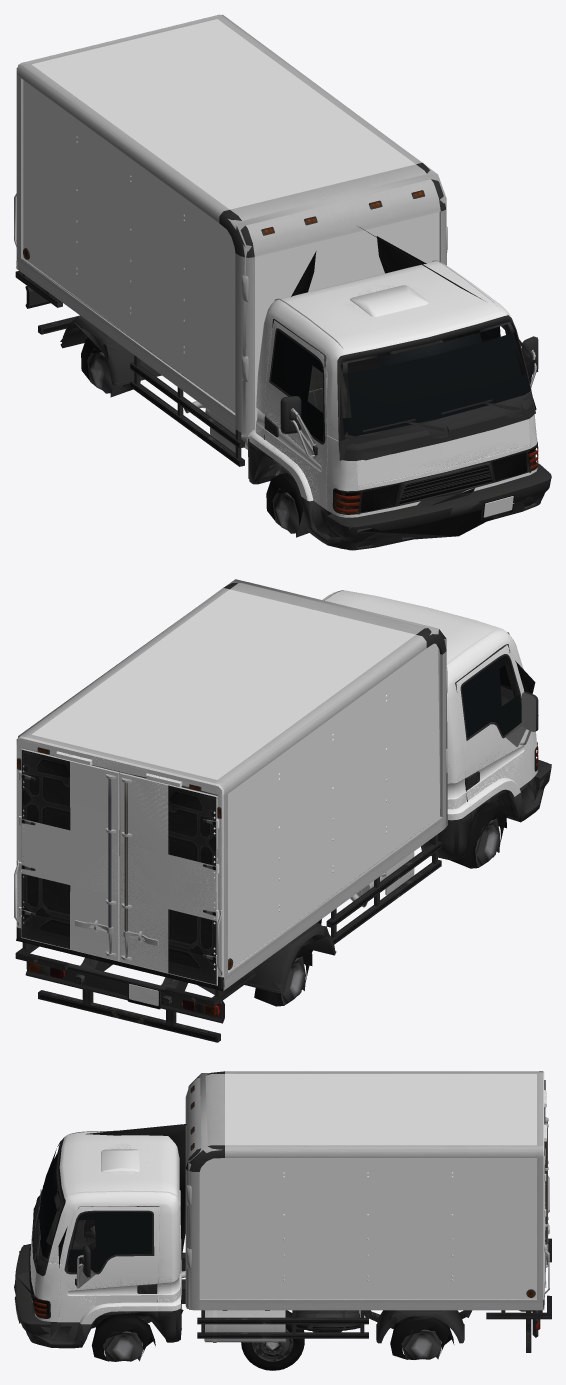
Rendered from truck7.glb.
3 views of the same model, one above another, from view 1: azimuth 30°, elevation 25°; view 2: azimuth 150°, elevation 25°; view 3: azimuth 270°, elevation 25° (orthographic). The views are drawn at different scales.
Parts seen in each view (by area): view 1: body0, body2, body1; view 2: body0, body1, body2; view 3: body0, body2, body1, wheel0, wheel1.
Part boxes in pixels (x1,y1,x2,y2): body0: [14, 14, 551, 550]; body2: [26, 226, 538, 541]; body1: [16, 14, 551, 550]; body0: [14, 582, 551, 1042]; body1: [16, 579, 551, 1024]; body2: [16, 644, 542, 1015]; body0: [14, 1071, 551, 1352]; body2: [16, 1085, 545, 1361]; body1: [14, 1071, 546, 1347]; wheel0: [241, 1310, 304, 1370]; wheel1: [242, 1310, 304, 1370].
Size of the model in its own units: 3.04 by 3.71 by 7.01.
Materials: 6 (2 with a texture image).
